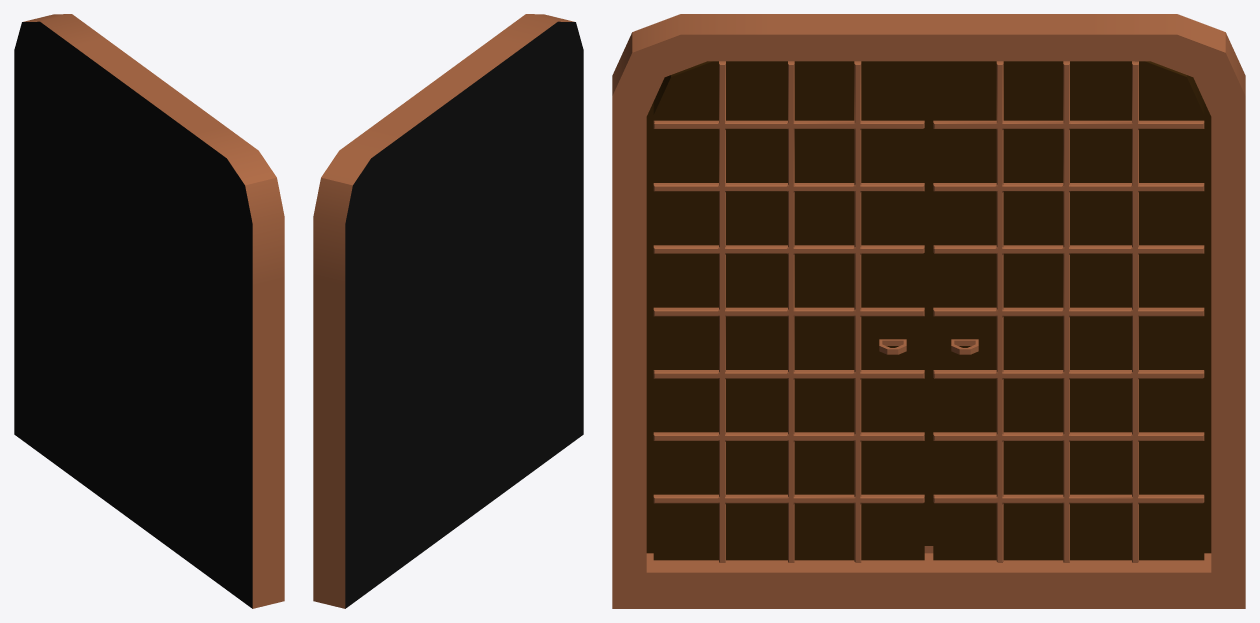
File: Doors.fbx
3 views of the same model, side by side, from view 1: azimuth 30°, elevation 25°; view 2: azimuth 150°, elevation 25°; view 3: azimuth 270°, elevation 25° (orthographic). The views are drawn at different scales.
Parts seen in each view (by area): view 1: BLACK WALL, DOORS BOUND; view 2: BLACK WALL, DOORS BOUND; view 3: DOORS_L, DOORS_R, DOORS BOUND.
Boxes of the visible parts, bbox=[...] form: BLACK WALL: bbox=[14, 21, 252, 608]; DOORS BOUND: bbox=[23, 14, 284, 608]; BLACK WALL: bbox=[345, 21, 583, 608]; DOORS BOUND: bbox=[313, 14, 574, 608]; DOORS_L: bbox=[653, 61, 924, 562]; DOORS_R: bbox=[933, 61, 1204, 562]; DOORS BOUND: bbox=[612, 14, 1245, 608].
Size of the model in its own units: 20.76 by 217 by 217.
